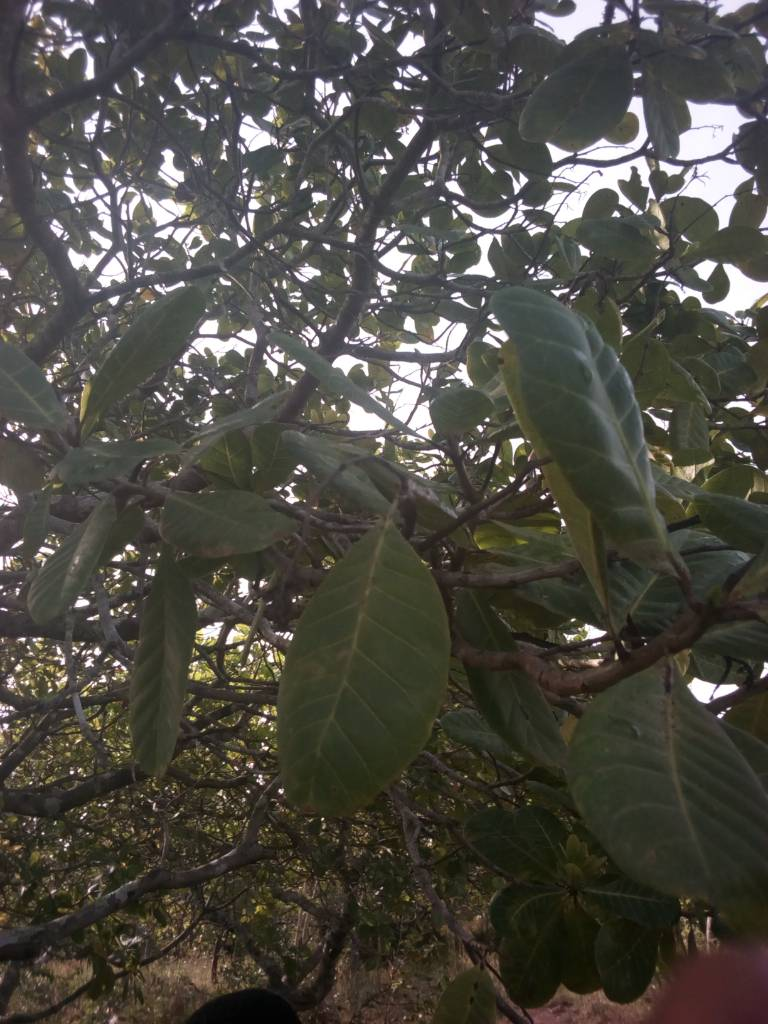Dessèchement des bourgeons: (647, 547, 754, 641)
